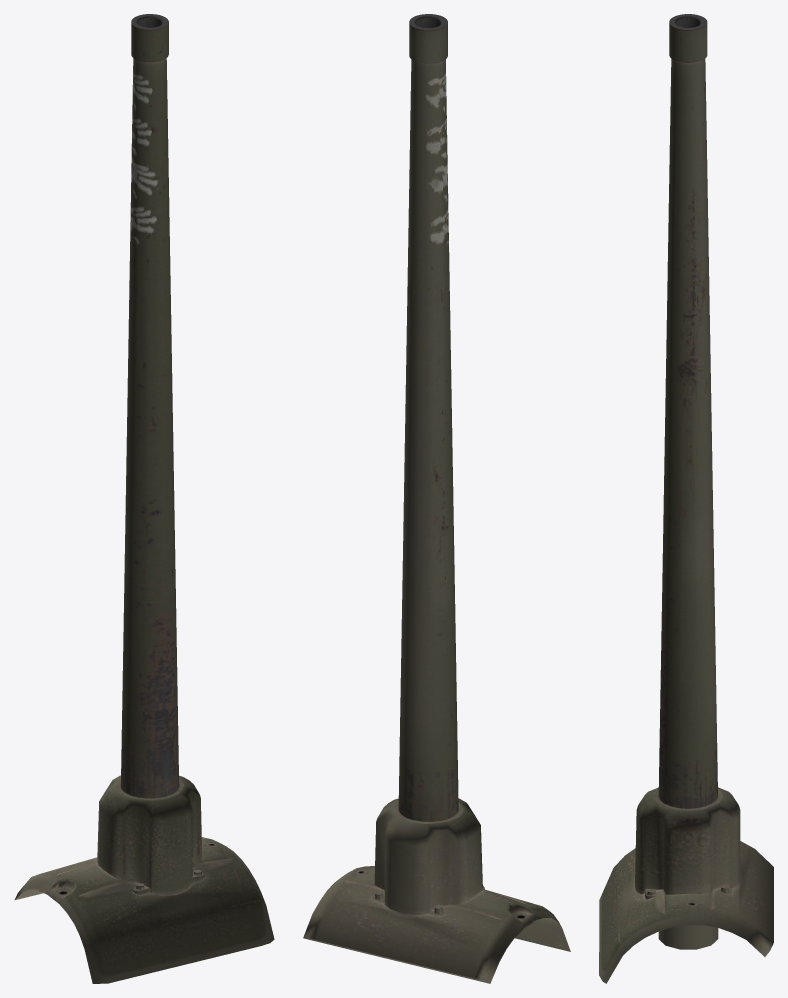
File: Gun_01.glb
3 renders of one model, left to right at view 1: azimuth 30°, elevation 25°; view 2: azimuth 150°, elevation 25°; view 3: azimuth 270°, elevation 25°, orthographic. The views are drawn at different scales.
Visible parts, largest first — view 1: set_0_group_0; view 2: set_0_group_0; view 3: set_0_group_0.
Boxes of the visible parts, x1,y1,x2,y2 form: set_0_group_0: (14,14,274,983); set_0_group_0: (303,14,570,983); set_0_group_0: (599,14,773,983).
Bounding box in the file's own units: 0.7243 × 3.46 × 0.5954.
Materials: 1 (1 with a texture image).
